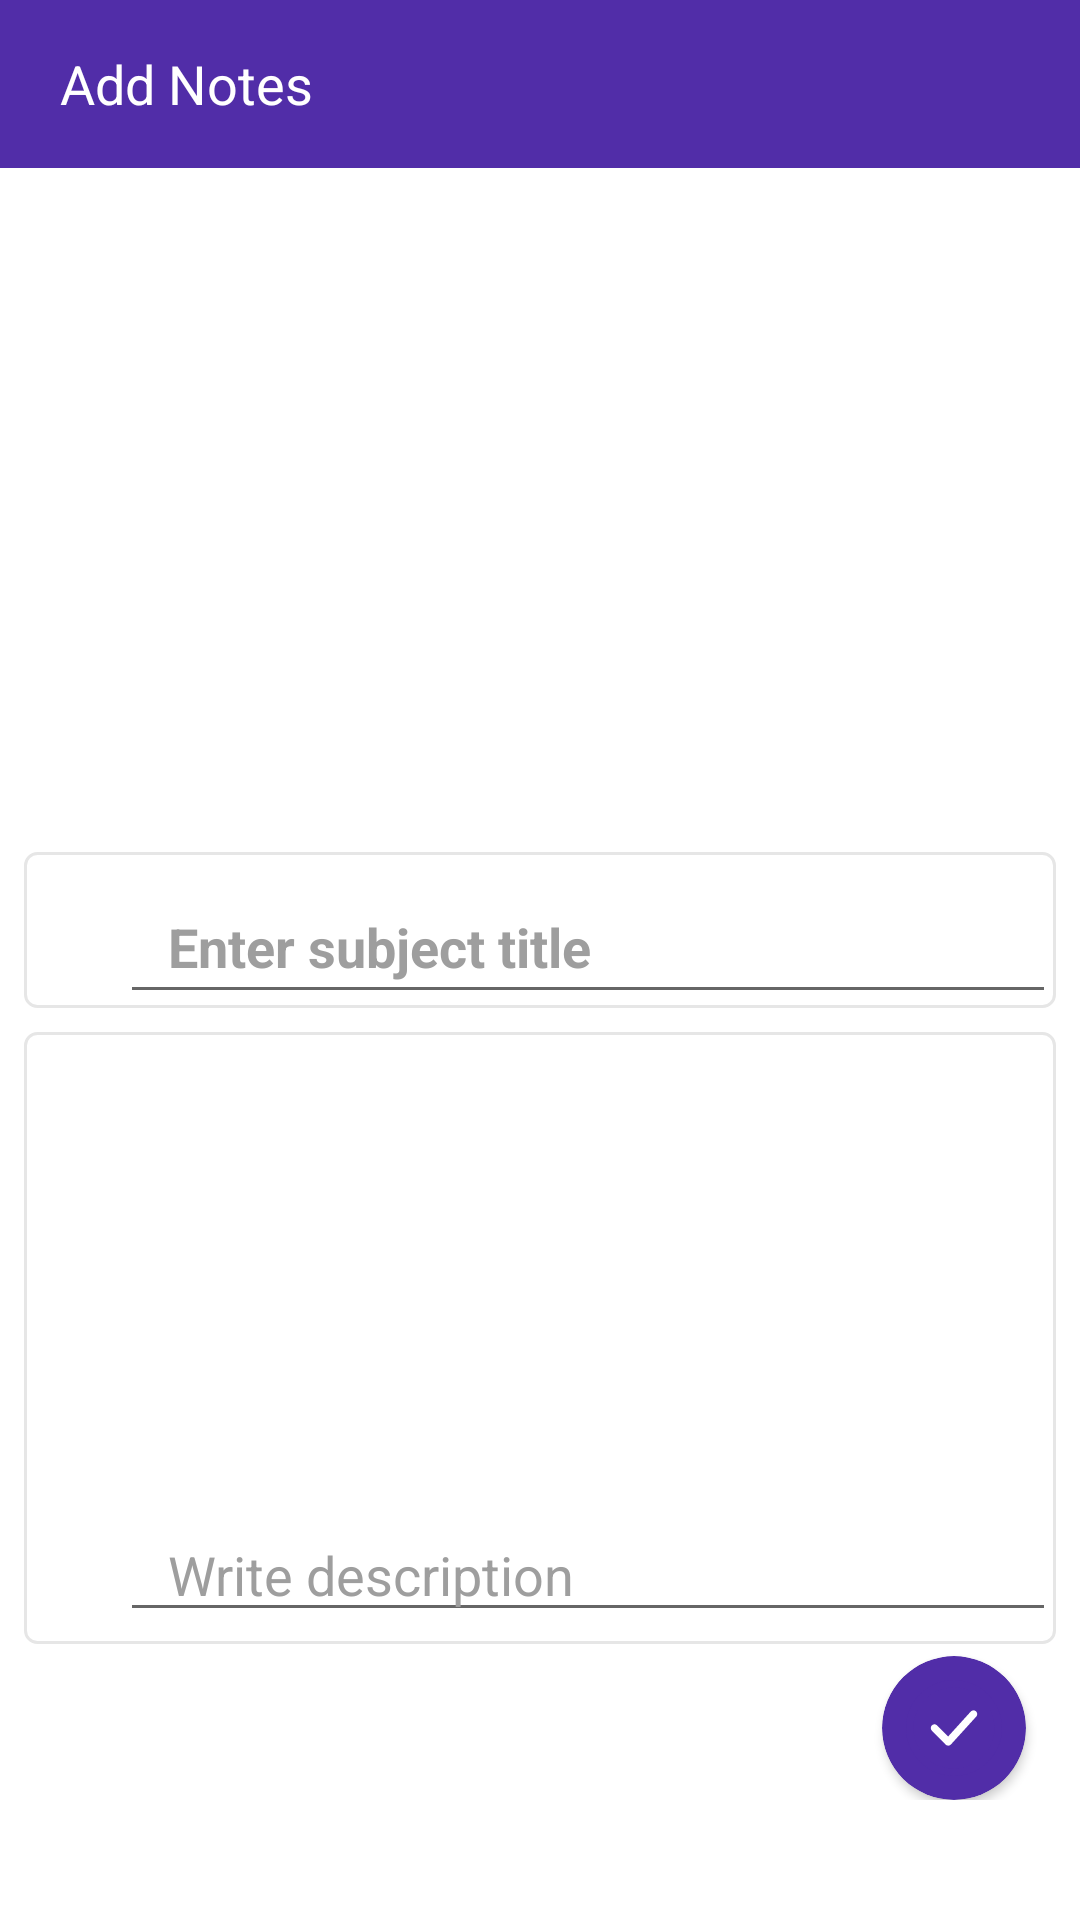

Icons on this 1080 × 1920 Android screen, each with its box as (x1, y1, x2, y2):
check circle: (882, 1656, 1026, 1800)
